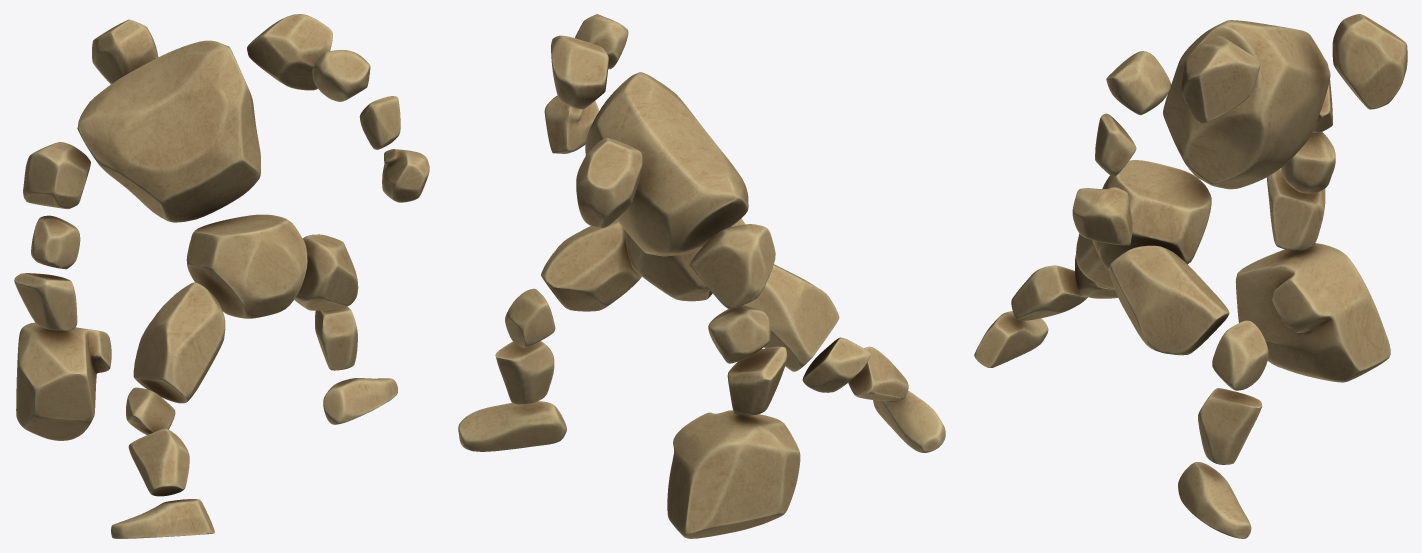
File: stone_elemental.glb
3 views of the same model, side by side, from view 1: azimuth 30°, elevation 25°; view 2: azimuth 150°, elevation 25°; view 3: azimuth 270°, elevation 25° (orthographic). The views are drawn at different scales.
Visible parts, largest first — view 1: TPose13_TPose12_Main_figure_to_daz26; view 2: TPose13_TPose12_Main_figure_to_daz26; view 3: TPose13_TPose12_Main_figure_to_daz26.
Boxes of the visible parts, bbox=[...] form: TPose13_TPose12_Main_figure_to_daz26: bbox=[14, 14, 429, 538]; TPose13_TPose12_Main_figure_to_daz26: bbox=[458, 14, 945, 538]; TPose13_TPose12_Main_figure_to_daz26: bbox=[974, 14, 1407, 538].
Size of the model in its own units: 147 by 155 by 136.
1 material, 1 textured.
